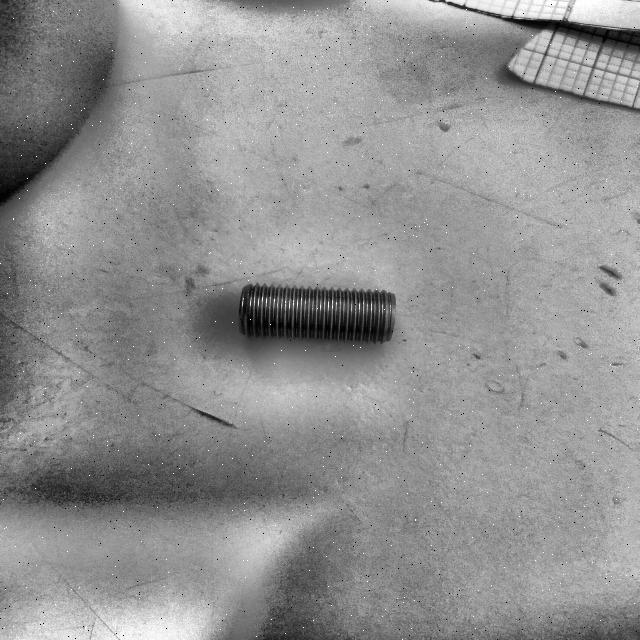Normal: (239, 282, 397, 348)
